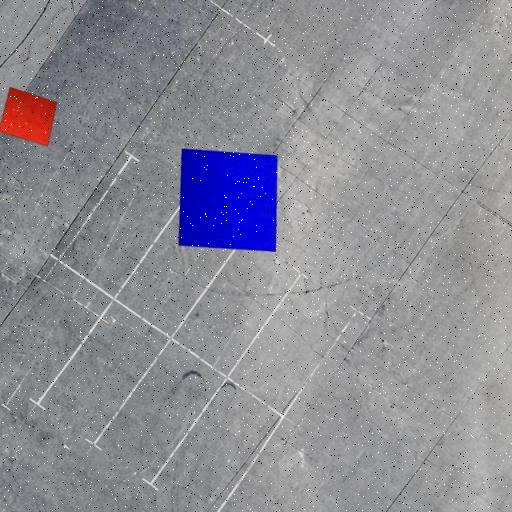BLUE_SQUARE: (178, 148, 278, 252)
RED_SQUARE: (0, 86, 58, 146)
